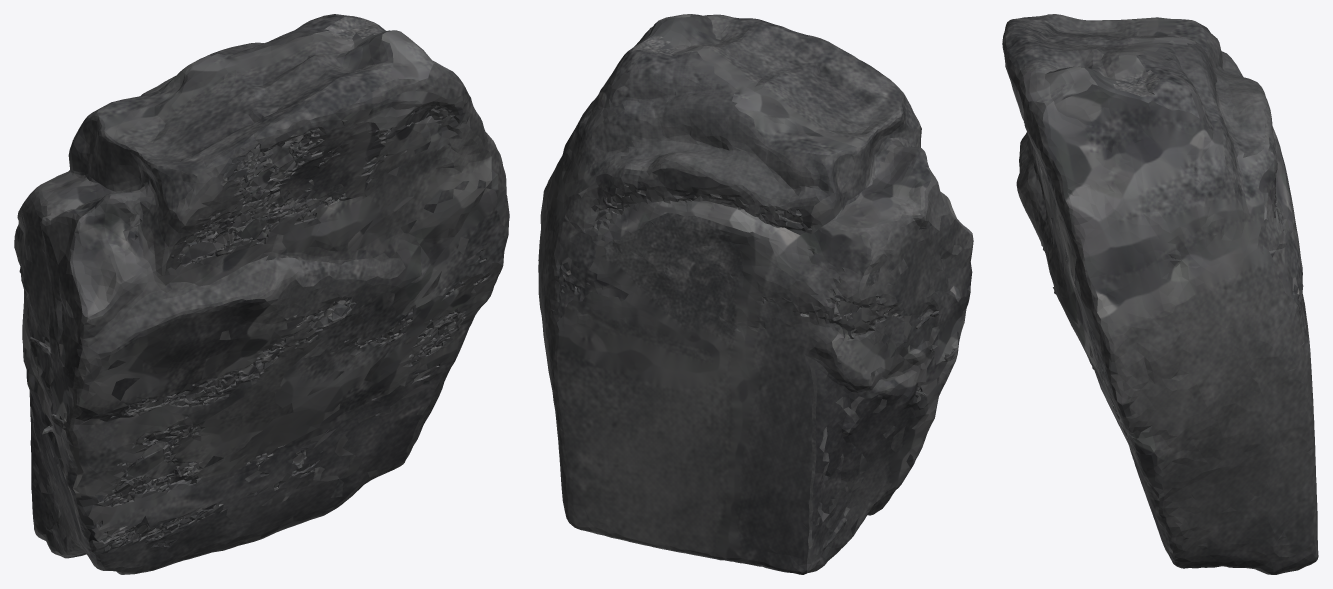
File: world_B1.obj
The picture shows the model from 3 angles, left to right: view 1: azimuth 30°, elevation 25°; view 2: azimuth 150°, elevation 25°; view 3: azimuth 270°, elevation 25°; orthographic projection. The views are drawn at different scales.
Parts seen in each view (by area): view 1: geometry_0; view 2: geometry_0; view 3: geometry_0.
Part boxes in pixels (x1=…): geometry_0: x1=14, y1=14, x2=509, y2=574; geometry_0: x1=538, y1=14, x2=973, y2=574; geometry_0: x1=1002, y1=14, x2=1318, y2=574.
Bounding box in the file's own units: 1.02 × 1.1 × 0.6238.
